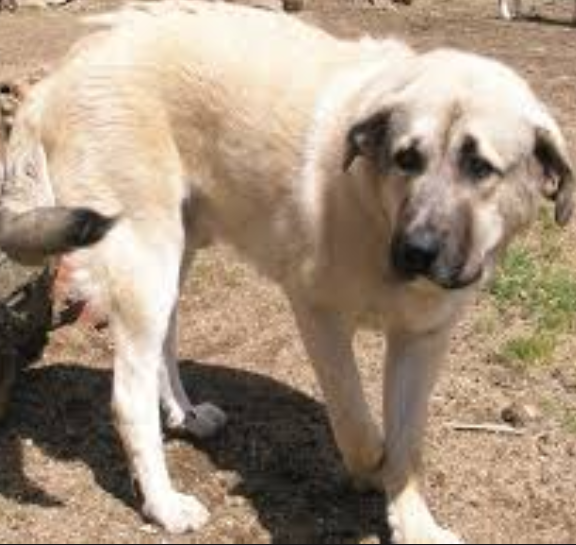dog: (0, 15, 576, 542)
